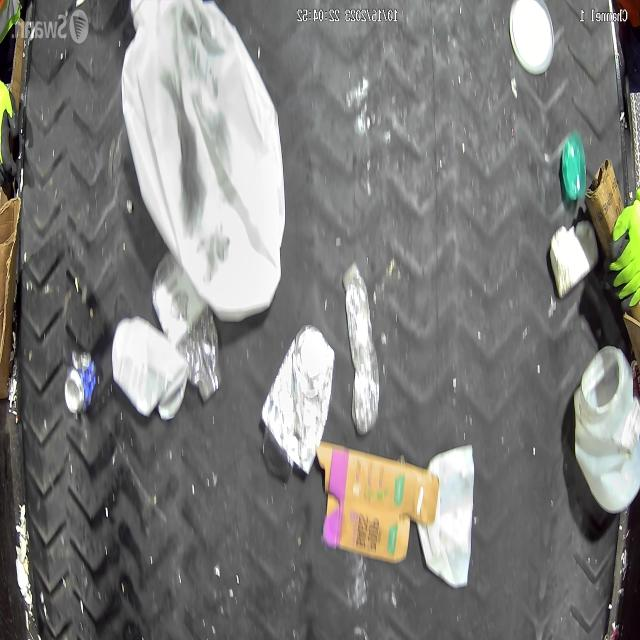can: (258, 325, 335, 480), (60, 348, 101, 423)
milk_jug: (119, 0, 292, 317), (569, 349, 640, 527)
plastic_bottle: (149, 233, 221, 404), (341, 257, 380, 436)
